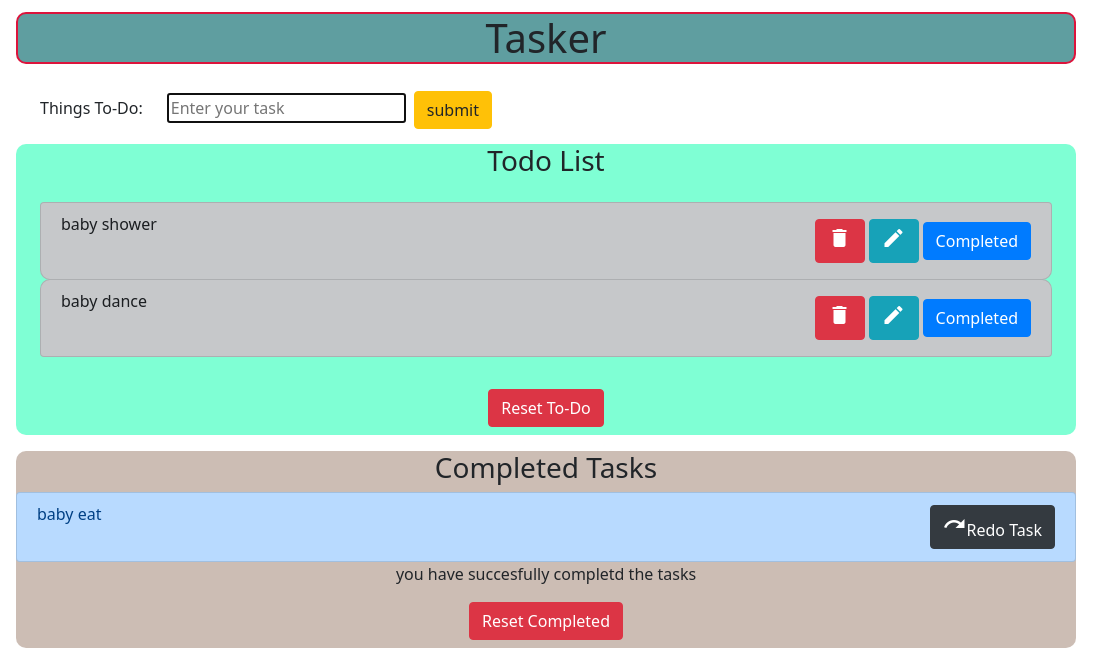
Test case: Todo app testing › redoing the task
Click the button "Redo Task". click: {"x": 993, "y": 527}
box: left=930, top=505, right=1056, bottom=549
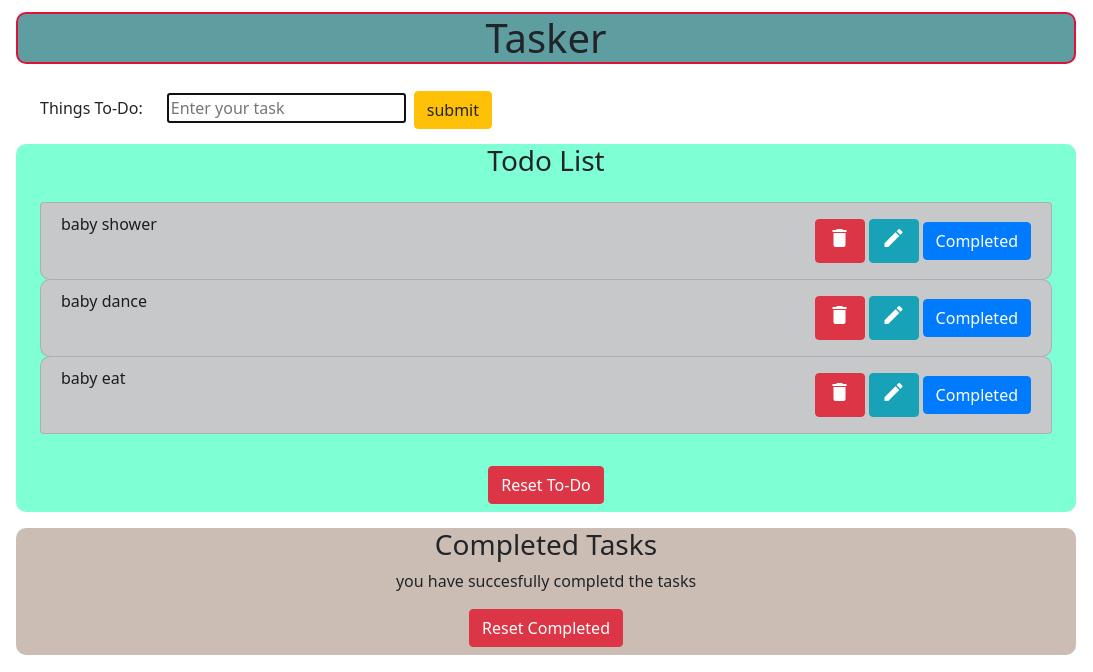
expect the number of list items with test id "todo-list" is 3: met, box left=40, top=202, right=1052, bottom=280; left=40, top=279, right=1052, bottom=357; left=40, top=356, right=1052, bottom=434
expect no list items with test id "completed-list" are shown: met
